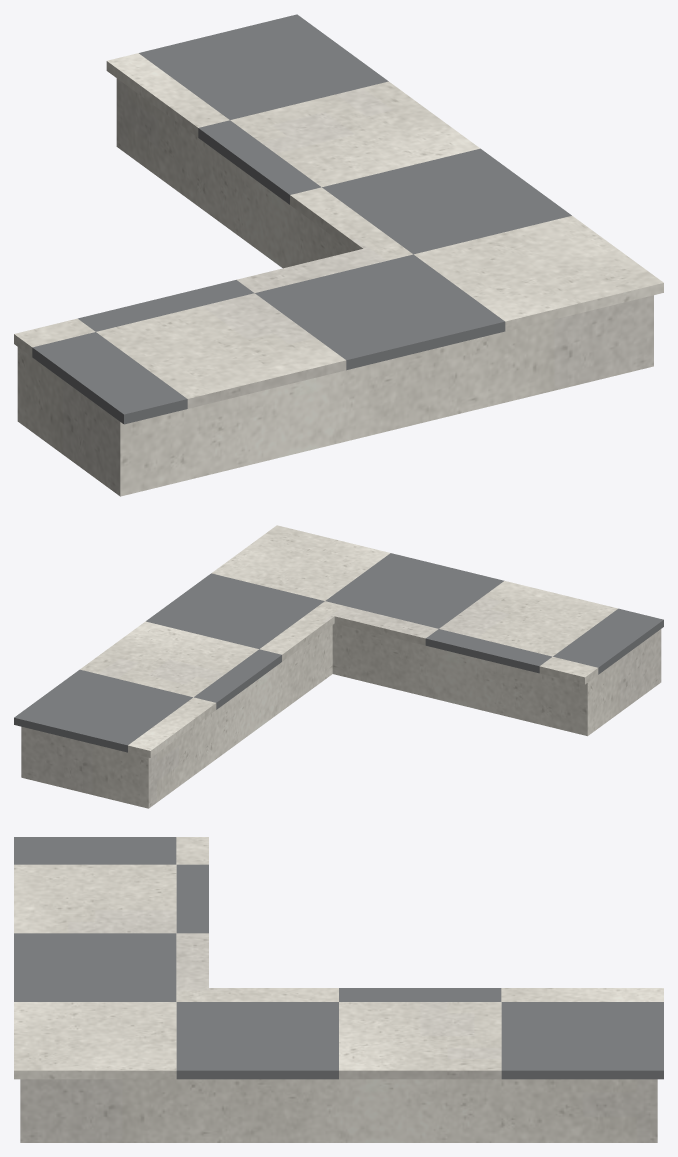
Rendered from floor_marble_u_e1000_h2.glb.
3 views of the same model, one above another, from view 1: azimuth 30°, elevation 25°; view 2: azimuth 150°, elevation 25°; view 3: azimuth 270°, elevation 25° (orthographic). The views are drawn at different scales.
Visible parts, largest first — view 1: floor_marble_u_e1000_h2_plaster, floor_marble_u_e1000_h2_slate, floor_marble_u_e1000_h2_marble; view 2: floor_marble_u_e1000_h2_plaster, floor_marble_u_e1000_h2_slate, floor_marble_u_e1000_h2_marble; view 3: floor_marble_u_e1000_h2_slate, floor_marble_u_e1000_h2_marble, floor_marble_u_e1000_h2_plaster.
Part boxes in pixels (x1=…): floor_marble_u_e1000_h2_plaster: x1=17, y1=78, x2=653, y2=496; floor_marble_u_e1000_h2_slate: x1=32, y1=14, x2=571, y2=424; floor_marble_u_e1000_h2_marble: x1=14, y1=53, x2=663, y2=408; floor_marble_u_e1000_h2_plaster: x1=21, y1=623, x2=661, y2=808; floor_marble_u_e1000_h2_slate: x1=14, y1=553, x2=663, y2=752; floor_marble_u_e1000_h2_marble: x1=80, y1=525, x2=617, y2=757; floor_marble_u_e1000_h2_slate: x1=14, y1=837, x2=663, y2=1079; floor_marble_u_e1000_h2_marble: x1=14, y1=837, x2=663, y2=1079; floor_marble_u_e1000_h2_plaster: x1=20, y1=1079, x2=657, y2=1142.
Bounding box in the file's own units: 1.7 × 0.255 × 2.
Materials: 3 (2 with a texture image).
